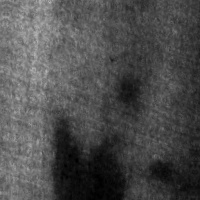patches: (56, 120, 133, 200), (118, 73, 143, 105), (155, 154, 177, 176)
